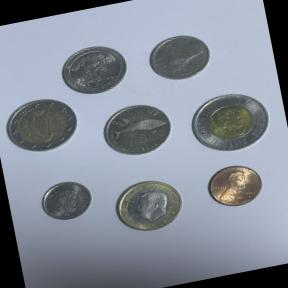coin: (176, 77, 280, 165), (104, 168, 195, 242), (92, 92, 180, 167), (0, 90, 83, 160), (54, 38, 133, 102), (196, 154, 271, 216), (32, 171, 98, 228)
